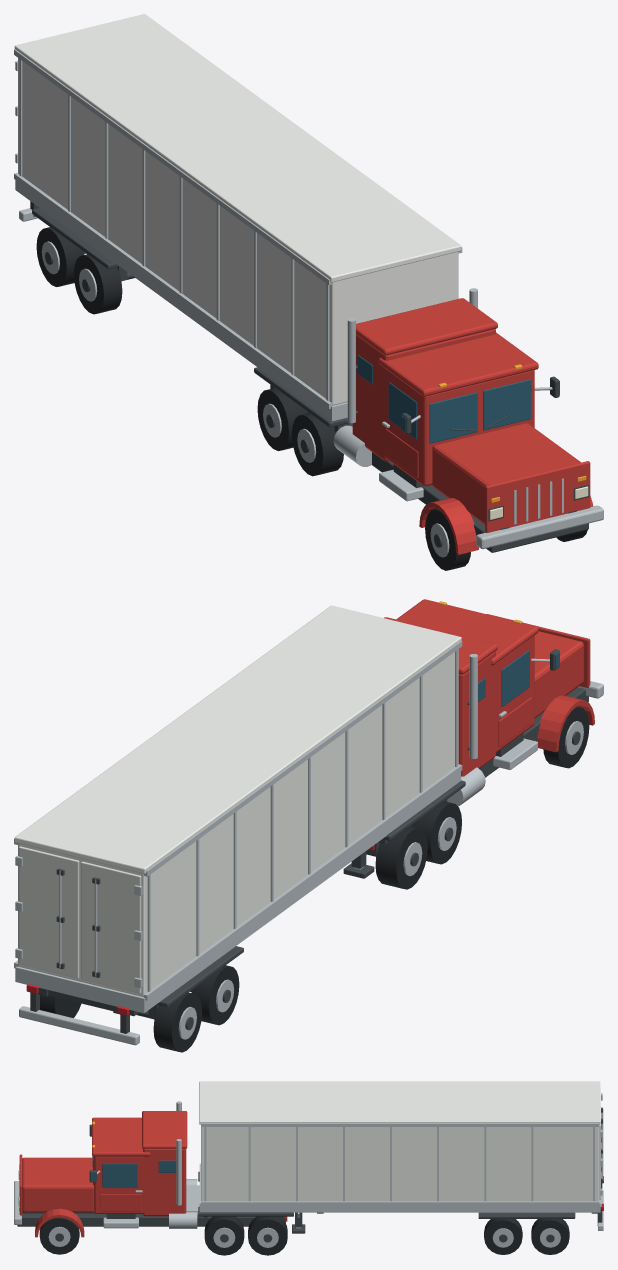
Rendered from semi_box_combo.glb.
3 views of the same model, one above another, from view 1: azimuth 30°, elevation 25°; view 2: azimuth 150°, elevation 25°; view 3: azimuth 270°, elevation 25° (orthographic). The views are drawn at different scales.
Visible parts, largest first — view 1: Dry van roof cap, Dry van closed cargo body, Tractor engine hood, Tractor cab roof, Sleeper rounded roof, Tractor front fascia, Tractor cab, Dry van structural floor, Tall sleeper compartment, Dry van side edge rail, Dry van side edge rail.001, Tractor front bumper (+16 smaller); view 2: Dry van roof cap, Dry van closed cargo body, Dry van rear door.001, Dry van rear door, Dry van structural floor, Tractor cab roof, Tall sleeper compartment, Tractor engine hood, Dry van side edge rail, Dry van side edge rail.001, Tractor drive tire.002, Trailer tandem tire.002 (+17 smaller); view 3: Dry van closed cargo body, Dry van roof cap, Tractor engine hood, Dry van structural floor, Tall sleeper compartment, Tractor cab roof, Dry van side edge rail.002, Sleeper rounded roof, Dry van side edge rail.003, Tractor cab, Tractor chassis, Tractor drive tire.001 (+19 smaller).
Boxes of the visible parts, x1,y1,x2,y2 form: Dry van roof cap: [14, 14, 461, 282]; Dry van closed cargo body: [18, 58, 458, 405]; Tractor engine hood: [432, 423, 580, 524]; Tractor cab roof: [378, 332, 538, 396]; Sleeper rounded roof: [356, 298, 497, 355]; Tractor front fascia: [485, 461, 590, 532]; Tractor cab: [383, 368, 534, 486]; Dry van structural floor: [15, 180, 347, 421]; Tall sleeper compartment: [352, 329, 495, 461]; Dry van side edge rail: [14, 172, 332, 408]; Dry van side edge rail.001: [14, 49, 332, 284]; Tractor front bumper: [476, 505, 603, 549]; Dry van roof cap: [14, 605, 461, 873]; Dry van closed cargo body: [18, 649, 458, 996]; Dry van rear door.001: [19, 846, 79, 978]; Dry van rear door: [81, 861, 141, 993]; Dry van structural floor: [15, 771, 460, 1013]; Tractor cab roof: [396, 599, 538, 665]; Tall sleeper compartment: [458, 651, 495, 776]; Tractor engine hood: [534, 631, 583, 718]; Dry van side edge rail: [143, 764, 462, 1000]; Dry van side edge rail.001: [143, 641, 462, 876]; Tractor drive tire.002: [375, 826, 427, 889]; Trailer tandem tire.002: [153, 992, 202, 1052]; Dry van closed cargo body: [201, 1127, 599, 1201]; Dry van roof cap: [199, 1081, 600, 1124]; Tractor engine hood: [22, 1157, 93, 1212]; Dry van structural floor: [199, 1163, 600, 1212]; Tall sleeper compartment: [143, 1148, 186, 1216]; Tractor cab roof: [92, 1117, 150, 1156]; Dry van side edge rail.002: [201, 1201, 599, 1205]; Sleeper rounded roof: [142, 1111, 187, 1148]; Dry van side edge rail.003: [201, 1123, 599, 1126]; Tractor cab: [94, 1156, 146, 1213]; Tractor chassis: [17, 1213, 285, 1226]; Tractor drive tire.001: [204, 1216, 244, 1255].
Bounding box in the file's own units: 3.12 × 4.05 × 16.29.
